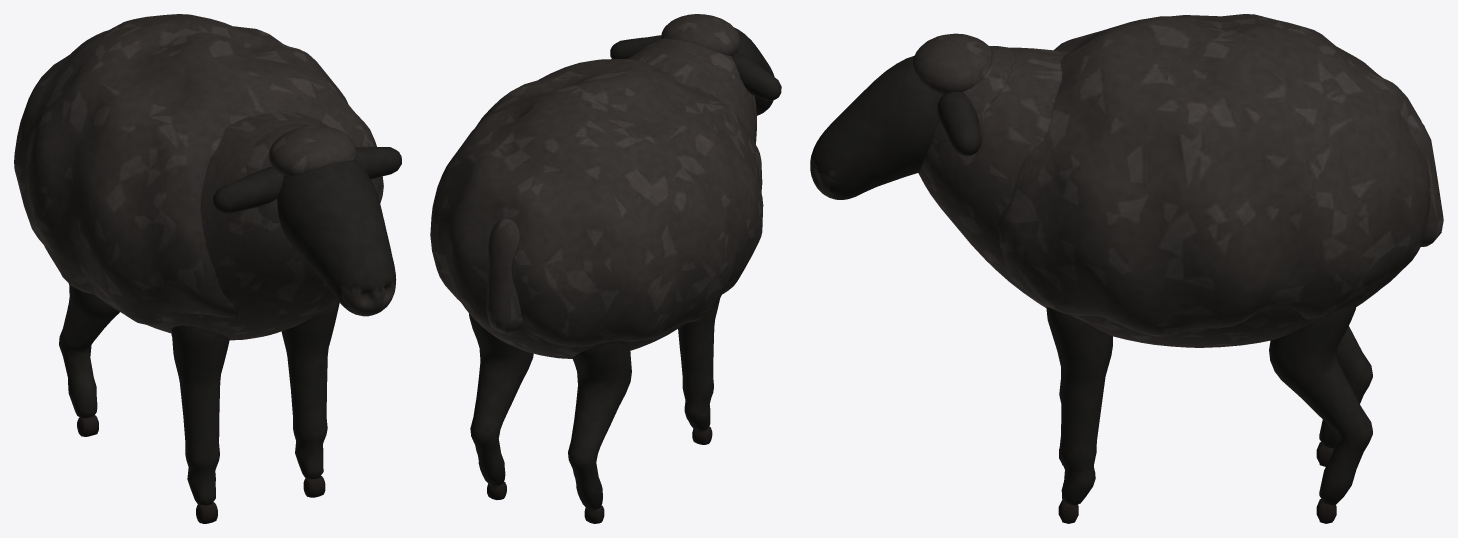
The model's file is animal_black_sheep.glb.
3 renders of one model, left to right at view 1: azimuth 30°, elevation 25°; view 2: azimuth 150°, elevation 25°; view 3: azimuth 270°, elevation 25°, orthographic. The views are drawn at different scales.
Parts seen in each view (by area): view 1: animal_black_sheep, head, leg0, leg1, leg2; view 2: animal_black_sheep, leg2, leg3, head, leg0, tail; view 3: animal_black_sheep, head, leg3, leg1, leg2, tail.
Boxes of the visible parts, x1,y1,x2,y2 form: animal_black_sheep: (14,14,383,340); head: (213,125,401,316); leg0: (171,326,229,523); leg1: (281,298,339,497); leg2: (59,283,119,436); animal_black_sheep: (430,38,763,358); leg2: (568,343,631,523); leg3: (469,313,533,499); head: (610,14,781,115); leg0: (678,298,720,444); tail: (486,218,522,333); animal_black_sheep: (918,14,1430,347); head: (810,33,992,199); leg3: (1269,305,1372,523); leg1: (1046,307,1112,523); leg2: (1316,326,1372,466); tail: (1407,114,1443,246).
Size of the model in its own units: 0.3047 by 0.4191 by 0.5169.
1 material, 1 textured.
